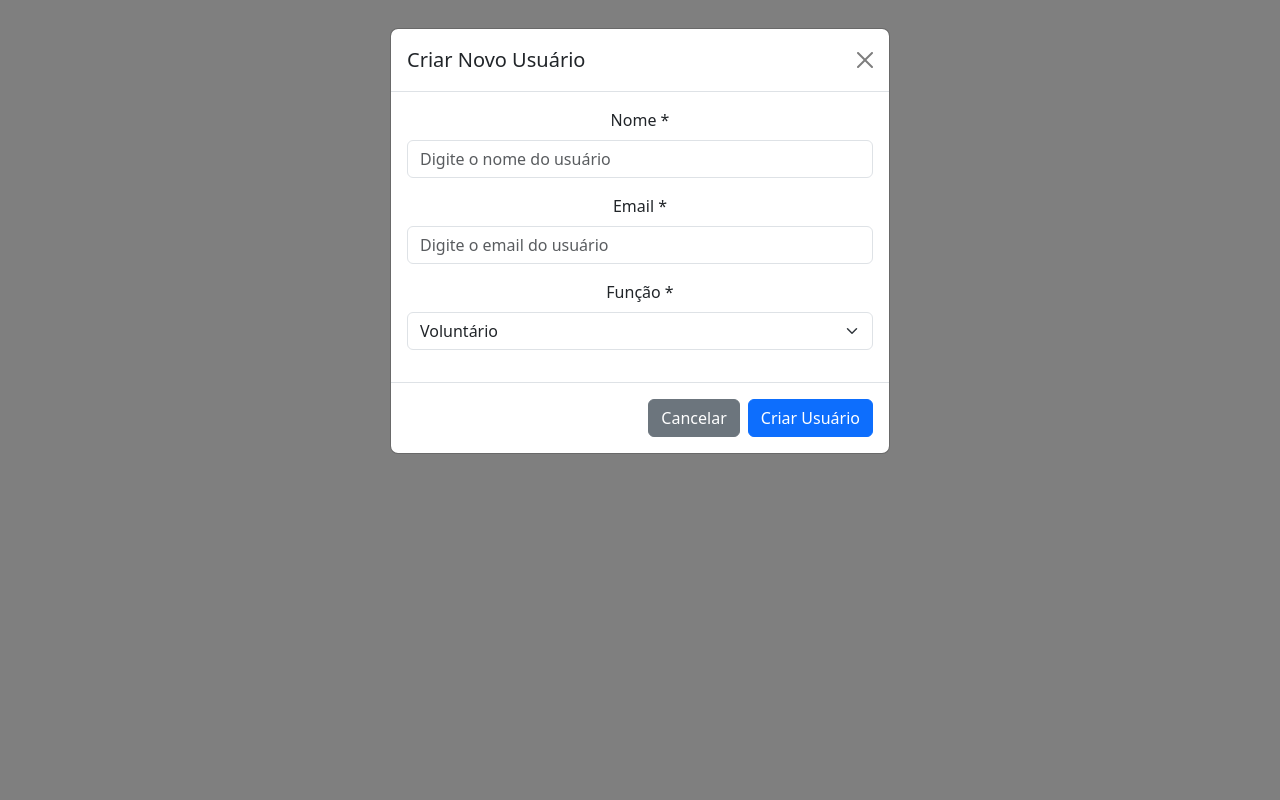
Test case: UserFormModal › Form validation › should clear error when user starts typing
Click the button with test id "modal-submit-button". click: (810, 418)
box: x1=748 y1=399 x2=873 y2=437
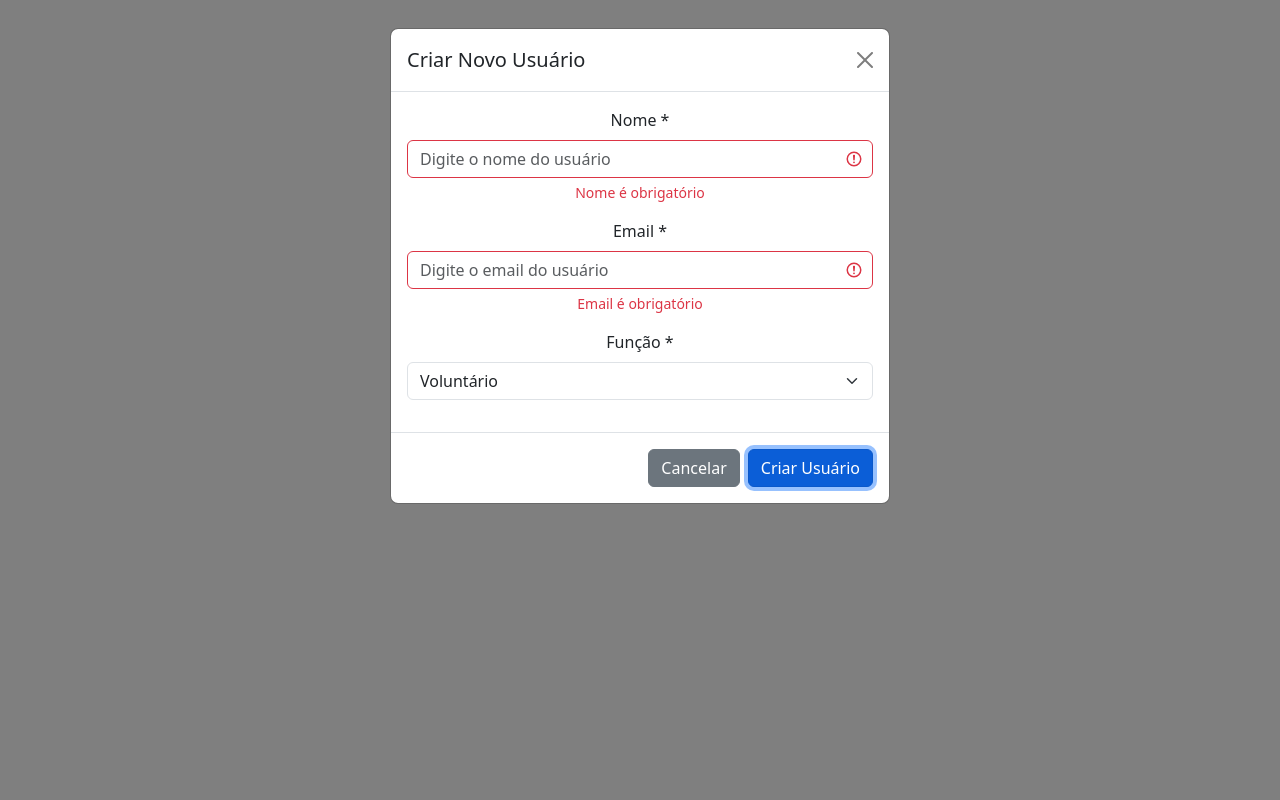
Expected: the text "Nome é obrigatório" is shown, x1=575 y1=183 x2=705 y2=202
Type "João" into the field with test id "name-input". click: (640, 159)
box: x1=407 y1=140 x2=873 y2=178
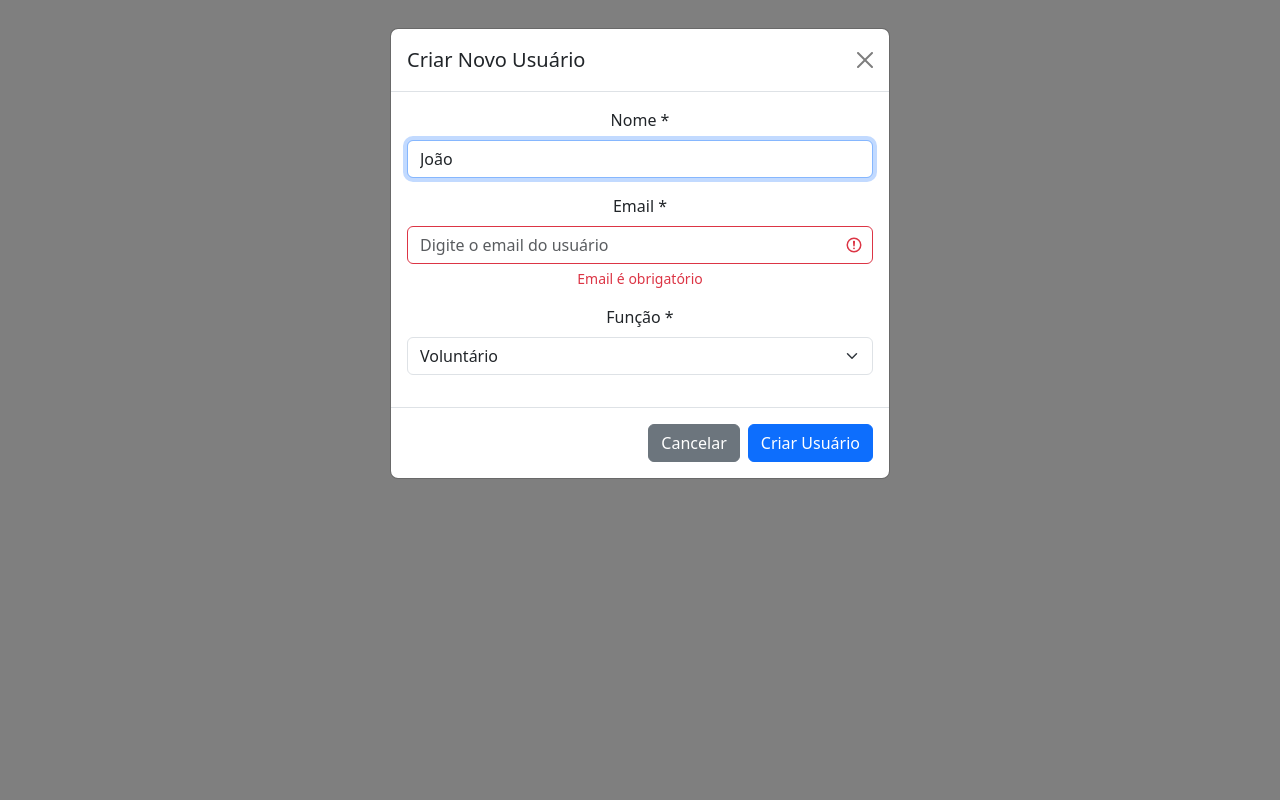
Expected: the text with test id "name-error" is gone
